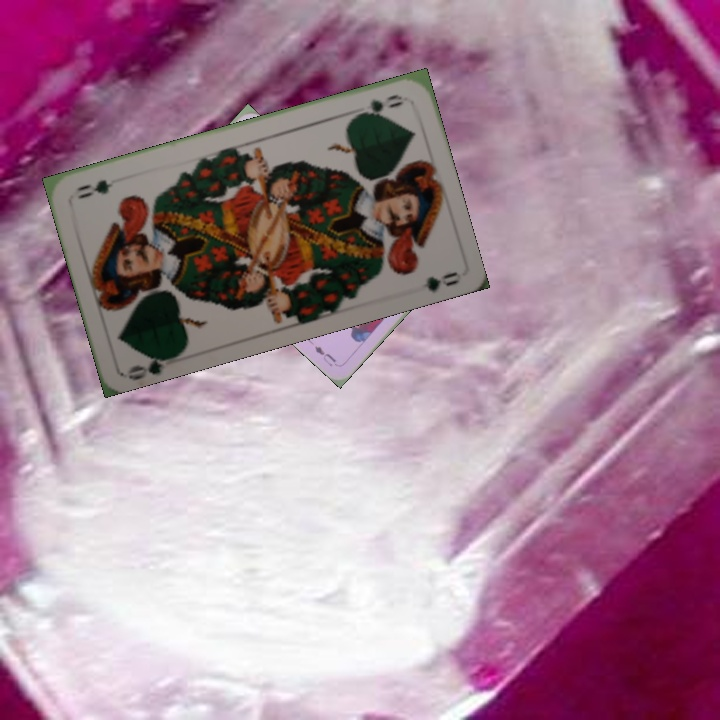GO: (123, 349, 180, 382), (351, 90, 406, 120)
